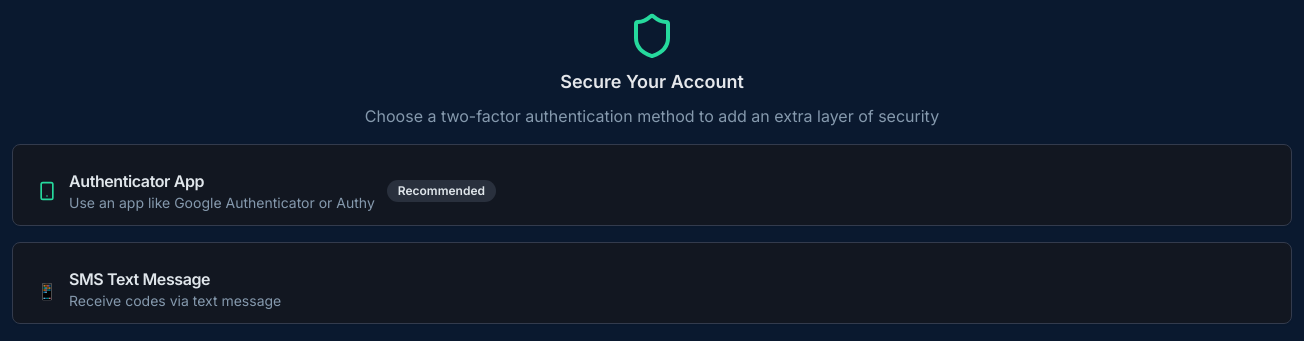
Test: TwoFactorSetup › SMS Setup Flow › should start SMS setup when SMS option is selected
The image size is (1304, 341).
Click the text "SMS Text Message".
click(140, 279)  # box [69,269,210,289]
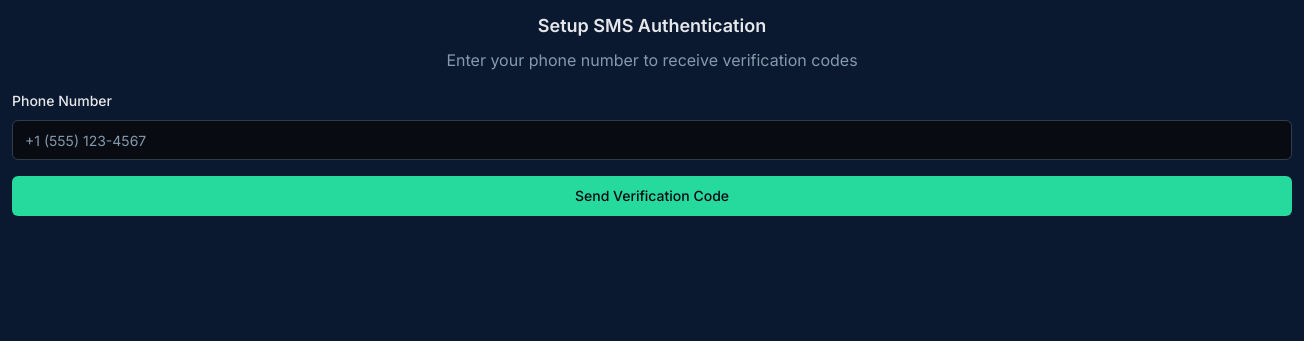
Now the heading "Setup SMS Authentication" is shown, box [538,15,766,36]
Now the field labelled "Phone Number" is shown, box [12,120,1292,160]
